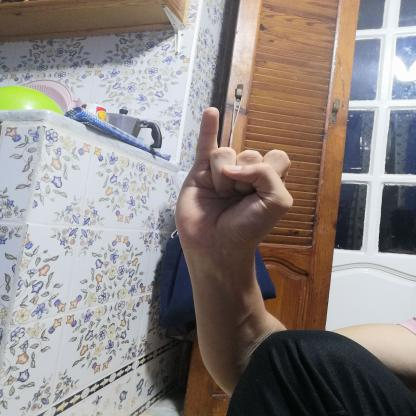MEEM: (158, 100, 306, 258)
